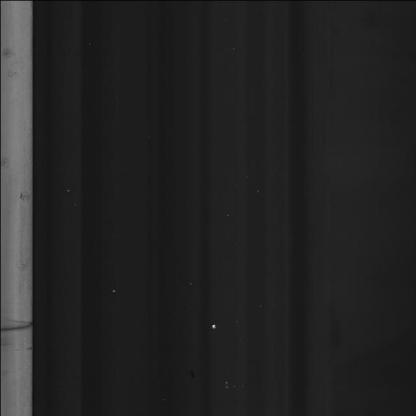crease: (2, 314, 29, 344)
